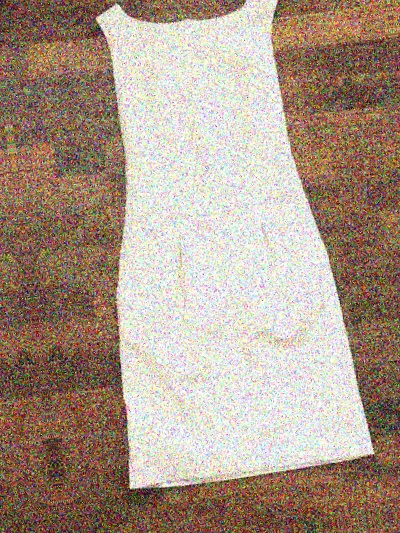Dress: (48, 0, 395, 511), (0, 23, 7, 533)
